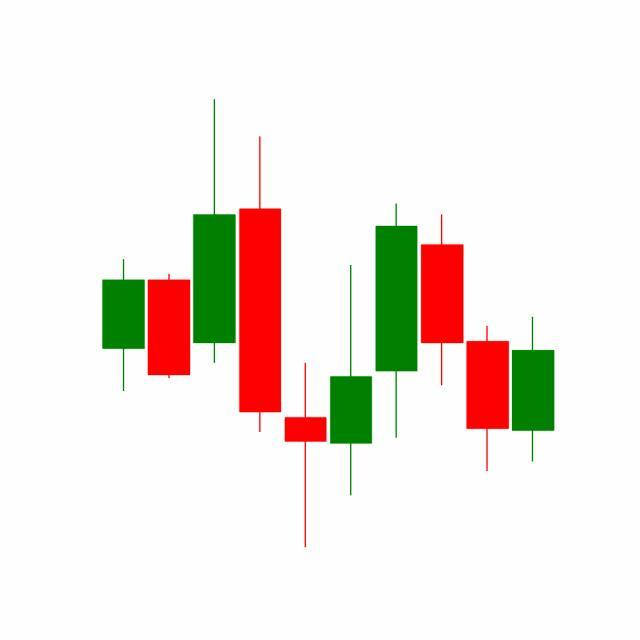Hikkake Pattern: (283, 199, 512, 549)
